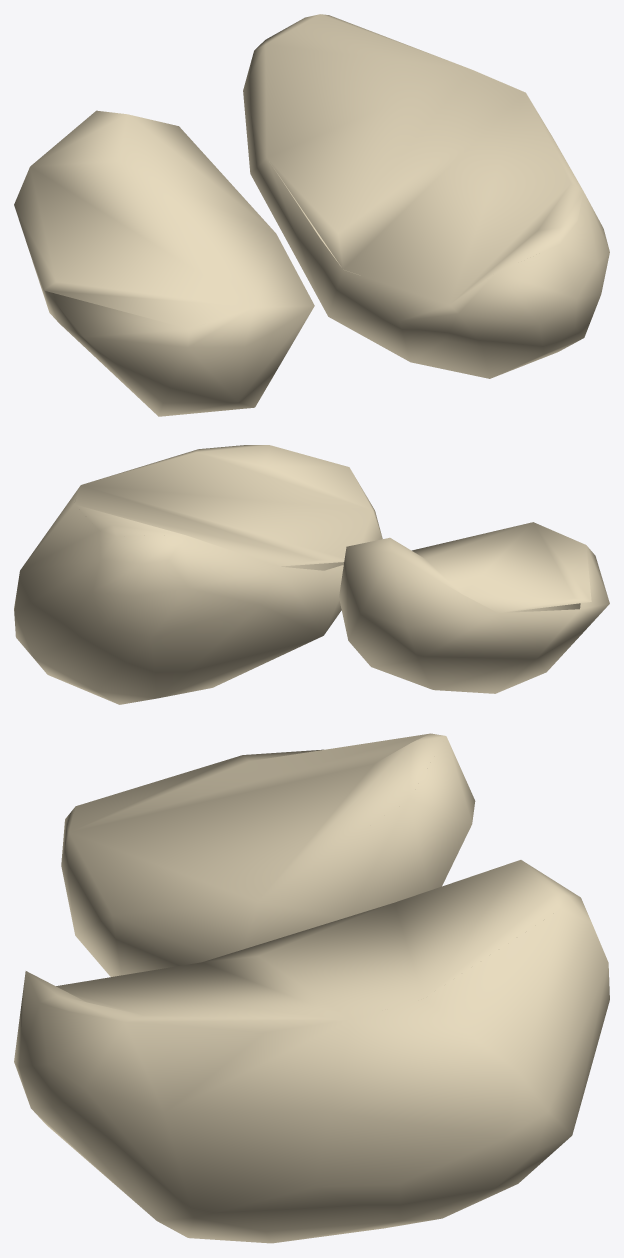
The model's file is esqueleto-sesamoid-bones-of-foot-l.glb.
The picture shows the model from 3 angles, top to bottom: view 1: azimuth 30°, elevation 25°; view 2: azimuth 150°, elevation 25°; view 3: azimuth 270°, elevation 25°; orthographic projection. The views are drawn at different scales.
Visible parts, largest first — view 1: Sesamoid bones of foot.l; view 2: Sesamoid bones of foot.l; view 3: Sesamoid bones of foot.l.
Part boxes in pixels (bbox=[...]): Sesamoid bones of foot.l: bbox=[14, 14, 609, 416]; Sesamoid bones of foot.l: bbox=[14, 445, 609, 704]; Sesamoid bones of foot.l: bbox=[14, 733, 609, 1243].
Size of the model in its own units: 0.0174 by 0.00802 by 0.0136.
